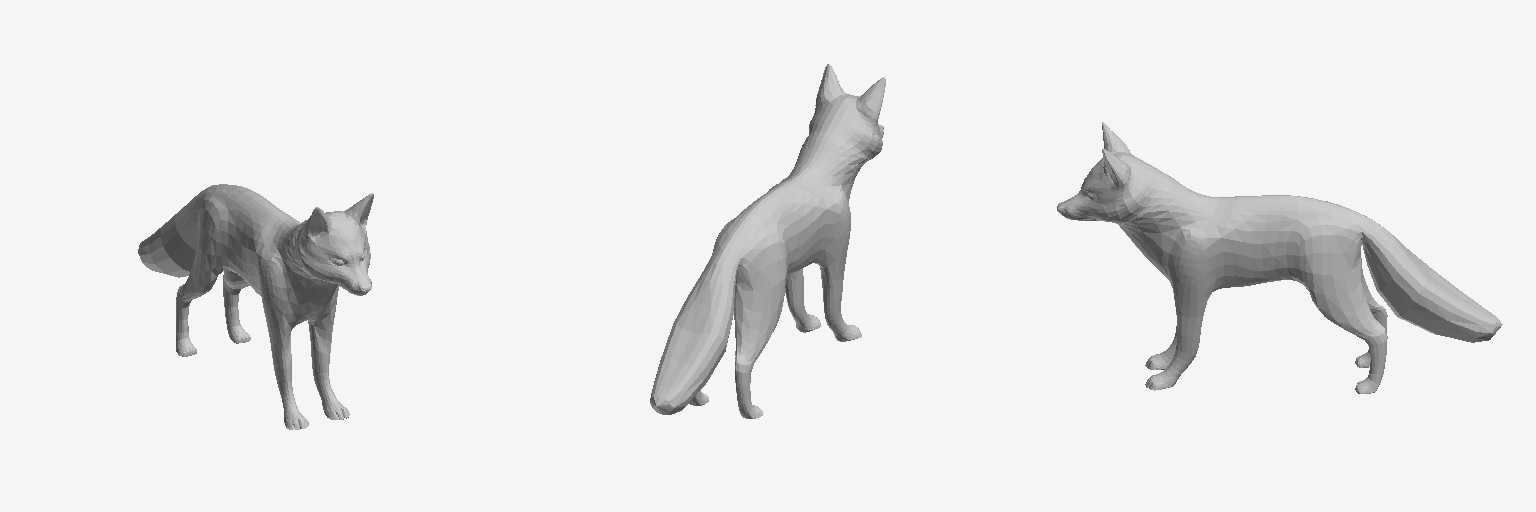
File: foxy.obj
3 views of the same model, side by side, from view 1: azimuth 30°, elevation 25°; view 2: azimuth 150°, elevation 25°; view 3: azimuth 270°, elevation 25° (orthographic).
Visible parts, largest first — view 1: Fox; view 2: Fox; view 3: Fox.
Part boxes in pixels (left/top/right/bottom): Fox: left=138, top=184, right=373, bottom=429; Fox: left=650, top=64, right=885, bottom=418; Fox: left=1057, top=122, right=1502, bottom=393.
Size of the model in its own units: 1.92 by 6.17 by 10.31.